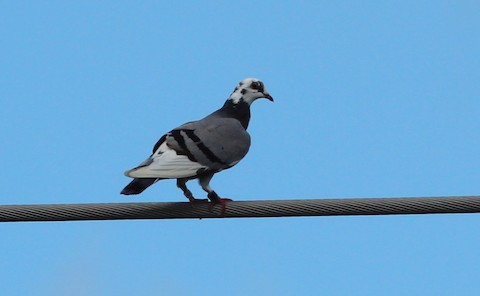pigeon: (117, 69, 277, 206)
